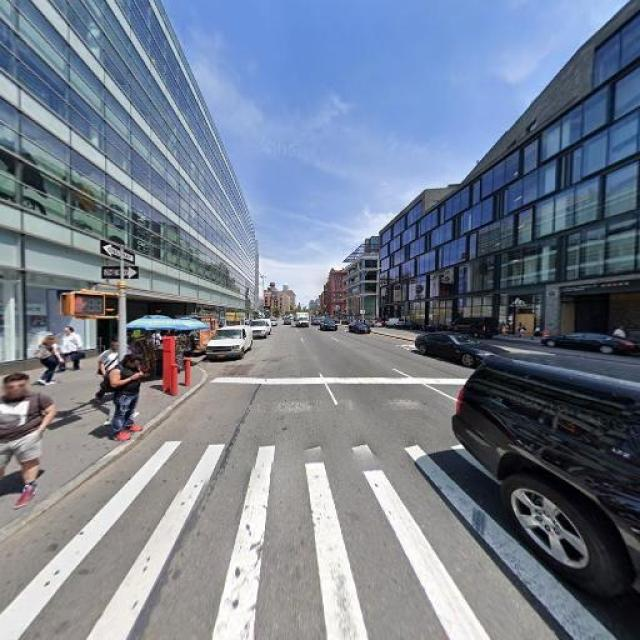Building: (1, 1, 254, 363), (380, 1, 640, 347)
